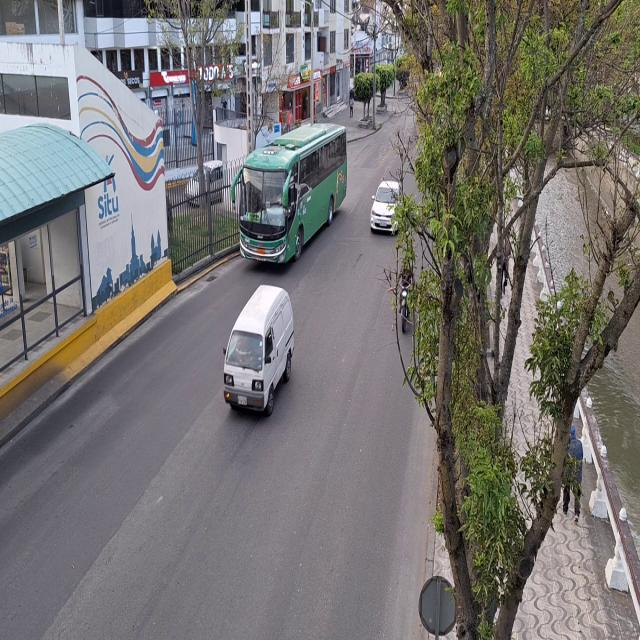BUS: (241, 122, 348, 268)
SED: (370, 180, 399, 233)
